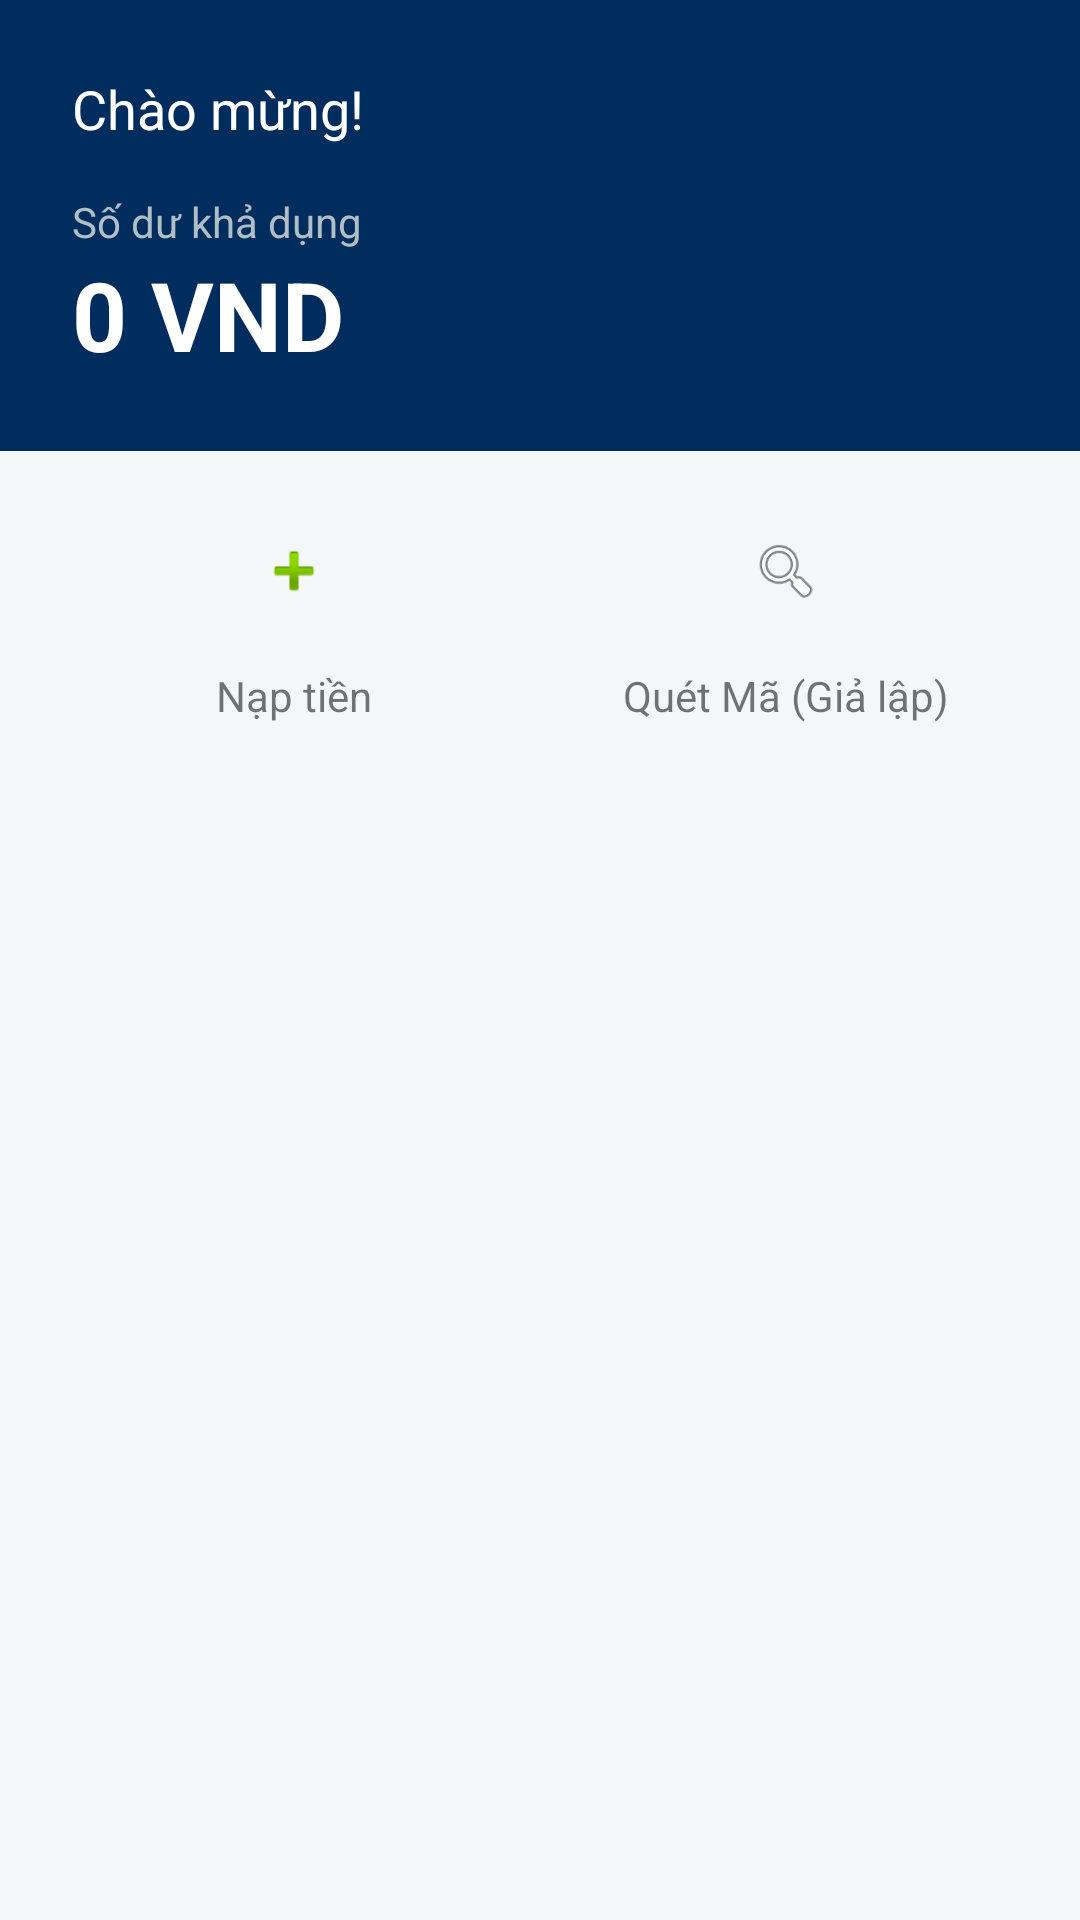

Icons on this 1080px x 1920px Android screen, each with the point to tap as point (x, y):
add: point (294, 571)
search: point (786, 571)
